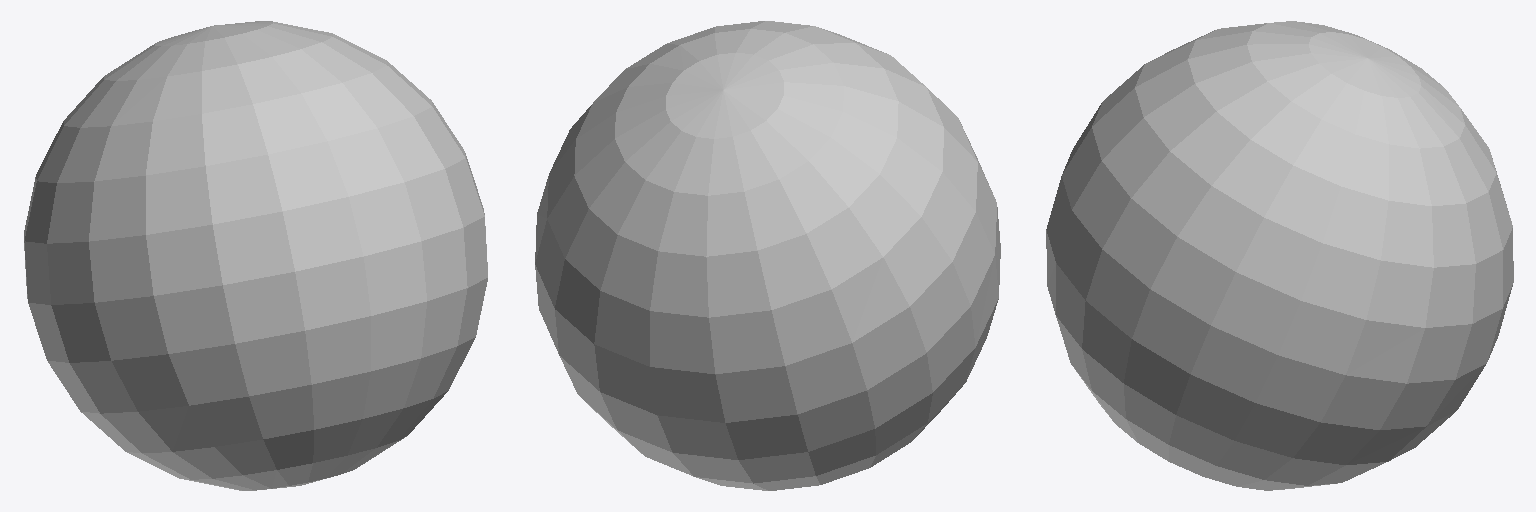
Rendered from trackpad_touch_left.obj.
The picture shows the model from 3 angles: view 1: azimuth 30°, elevation 25°; view 2: azimuth 150°, elevation 25°; view 3: azimuth 270°, elevation 25°; orthographic projection.
Parts seen in each view (by area): view 1: touchpad_touch; view 2: touchpad_touch; view 3: touchpad_touch.
Part boxes in pixels (left/top/right/bottom): touchpad_touch: left=24, top=21, right=487, bottom=490; touchpad_touch: left=535, top=21, right=1000, bottom=490; touchpad_touch: left=1046, top=21, right=1513, bottom=490.
Size of the model in its own units: 0.0043 by 0.0043 by 0.0043.